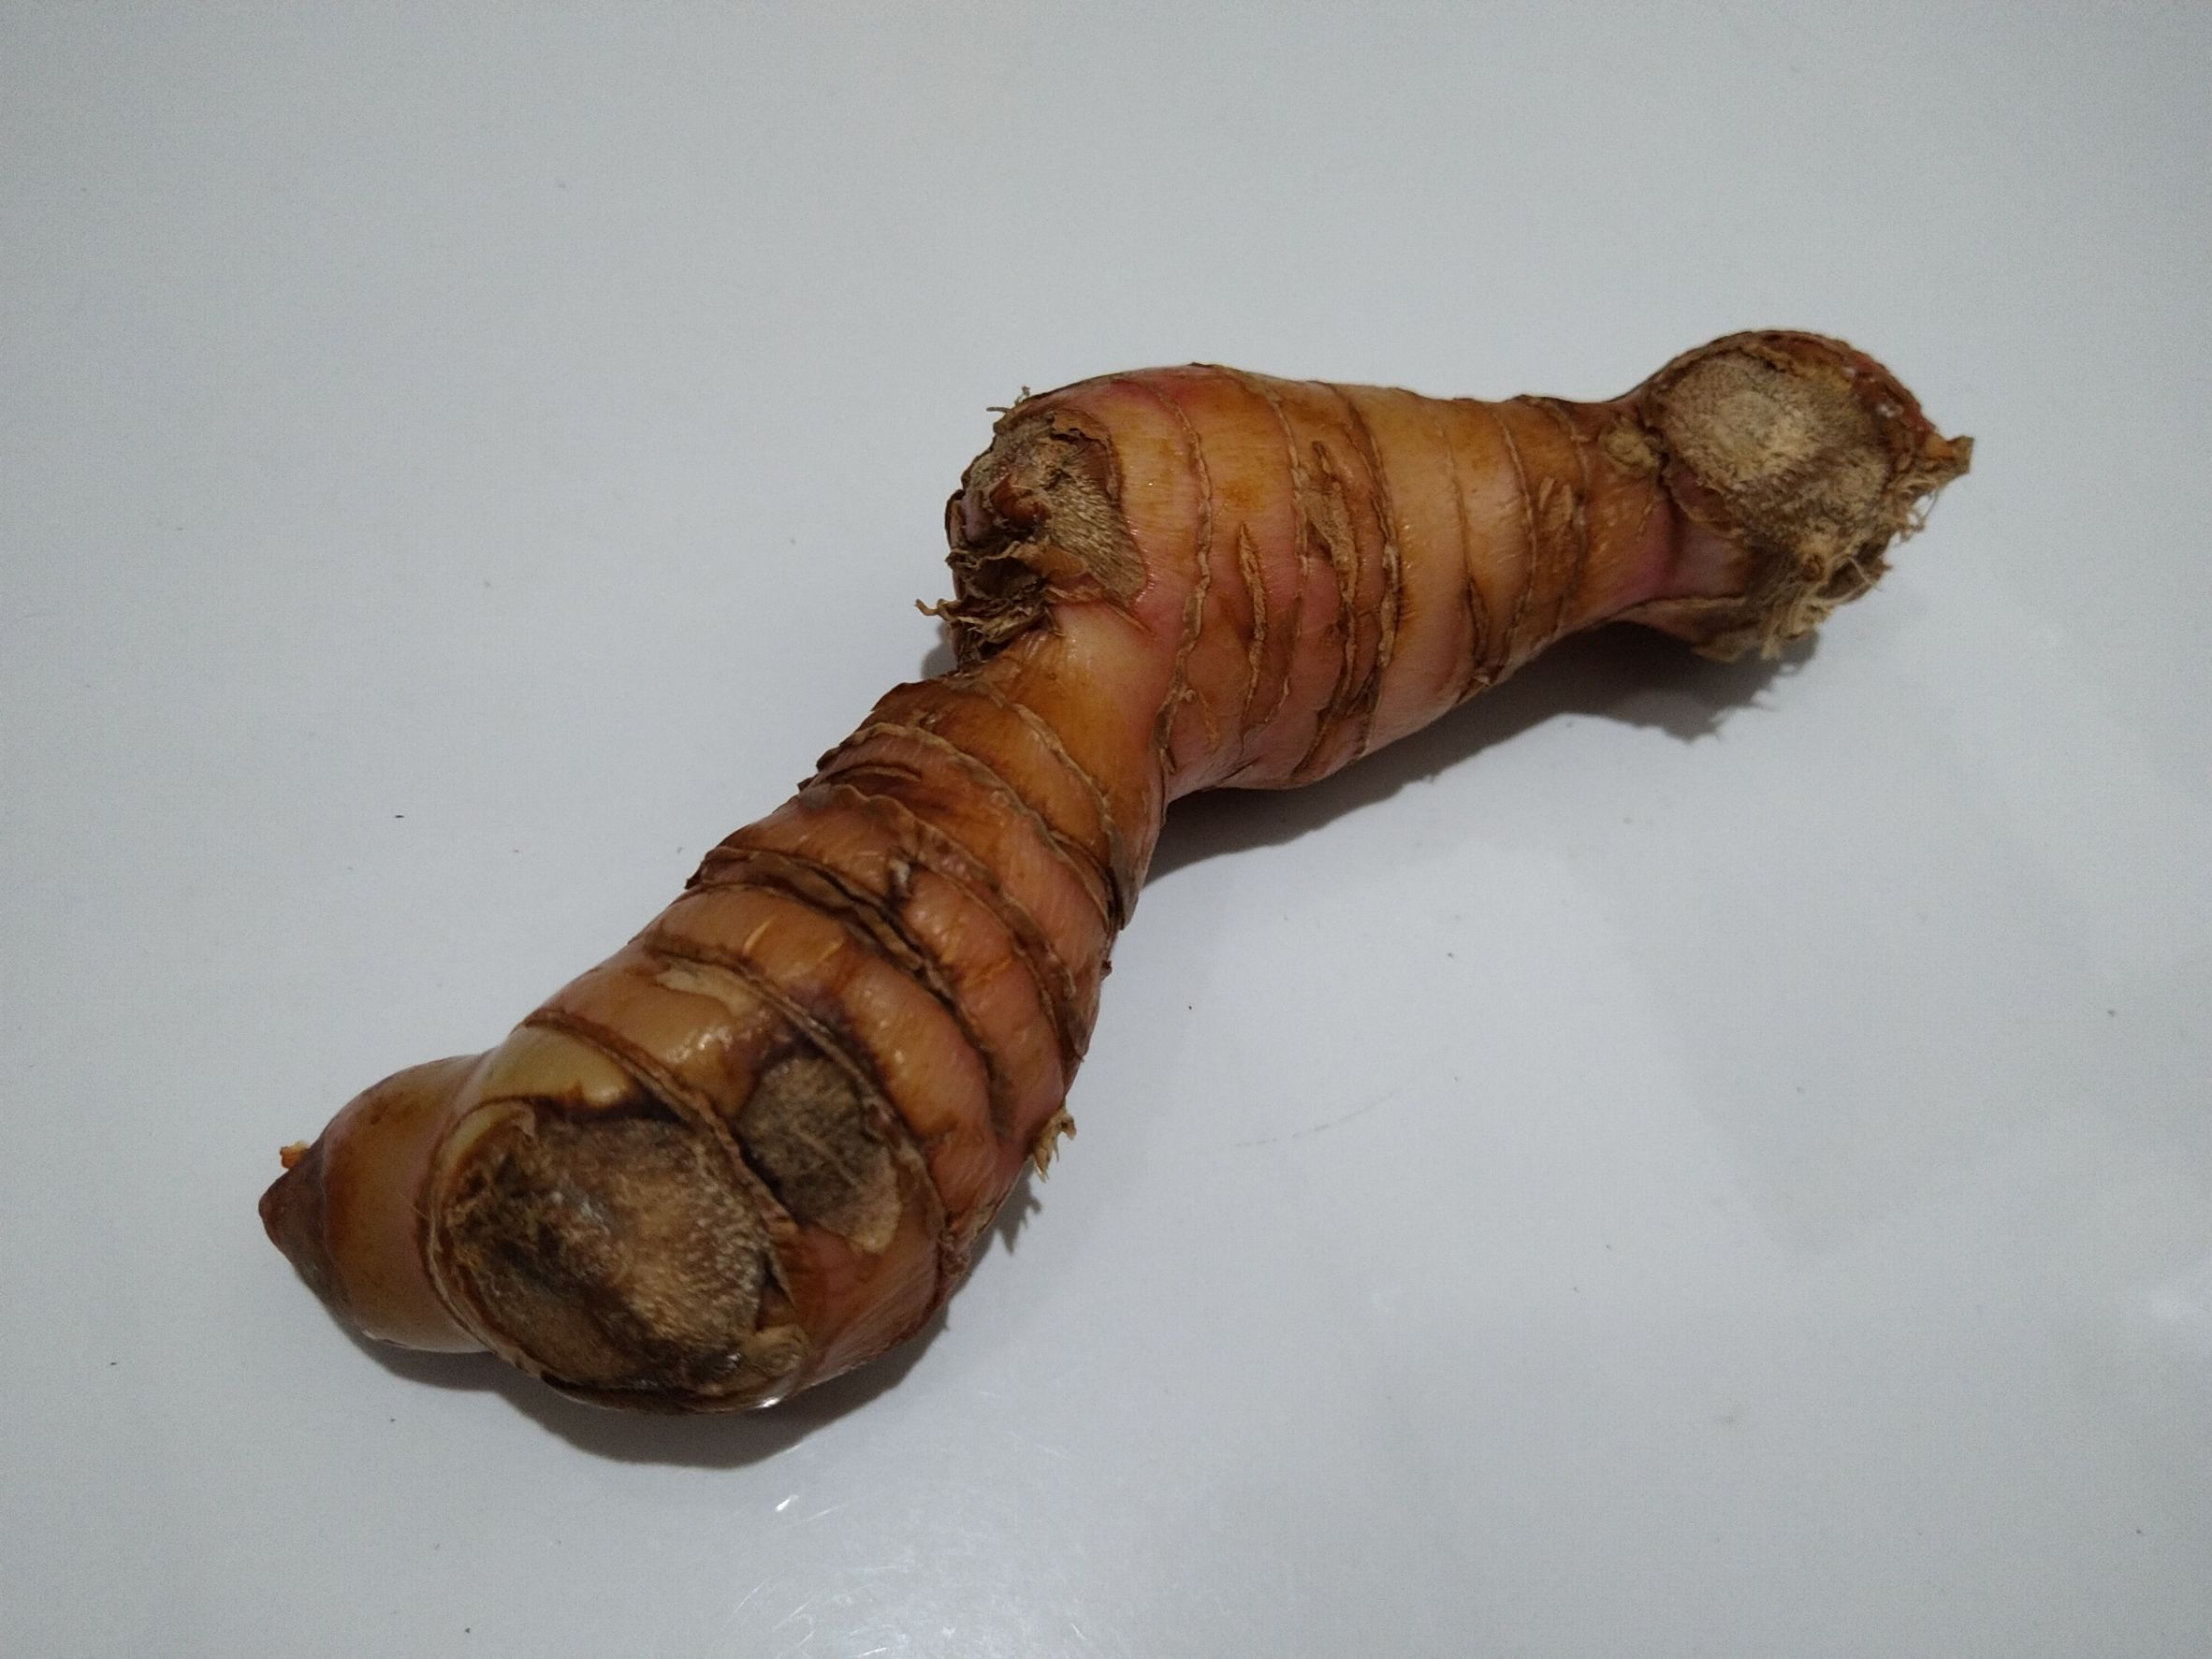Lengkuas: (280, 333, 1942, 1420)
